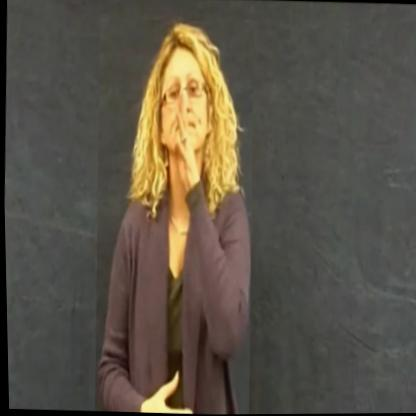Talk: (85, 18, 260, 416)
